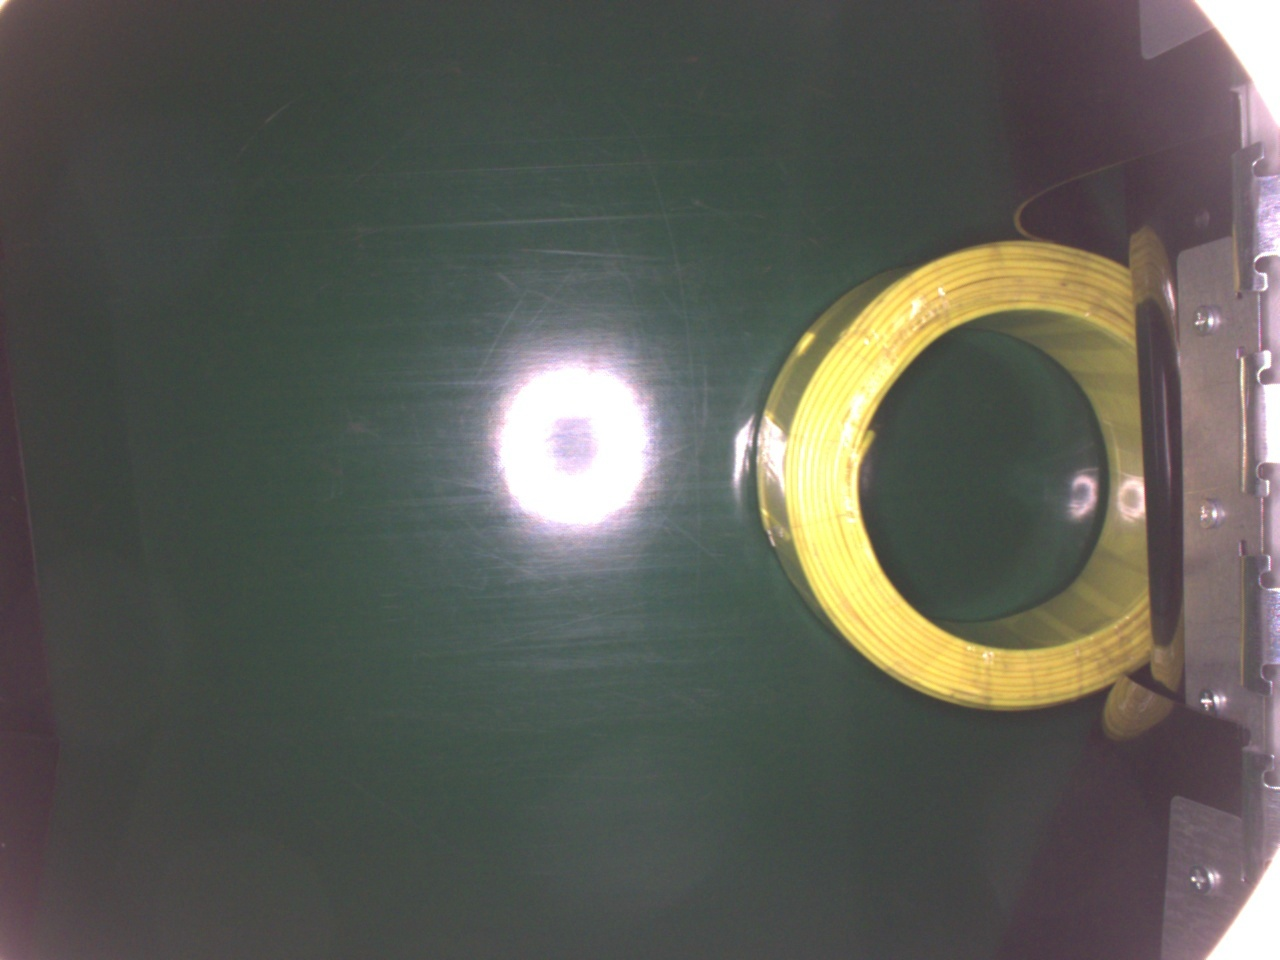yellow: (750, 235, 1150, 706)
